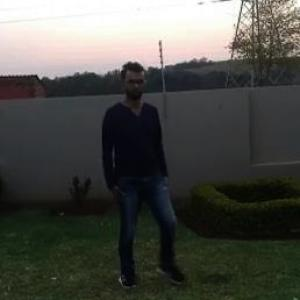follow: (89, 62, 164, 292)
